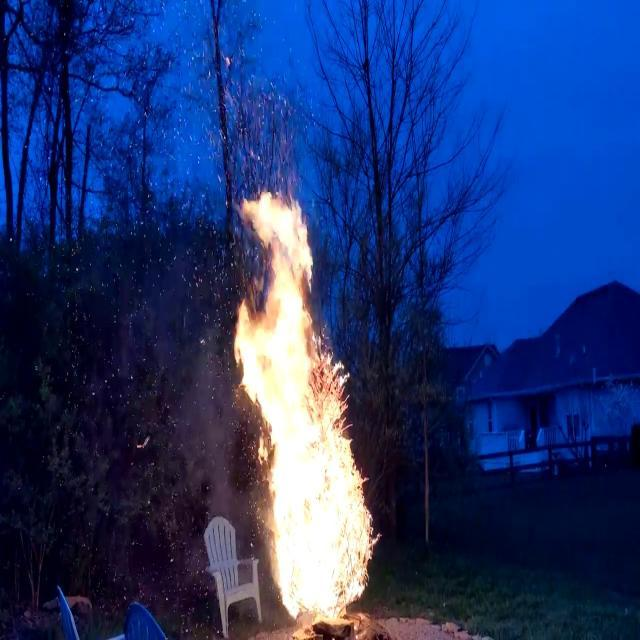Fire: (222, 177, 382, 624)
